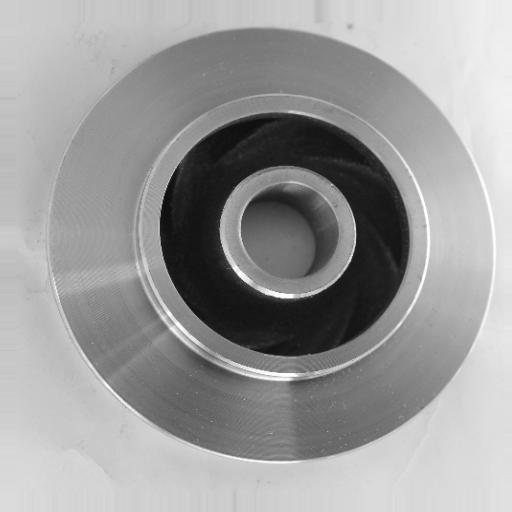polished_casting: (52, 21, 494, 464)
